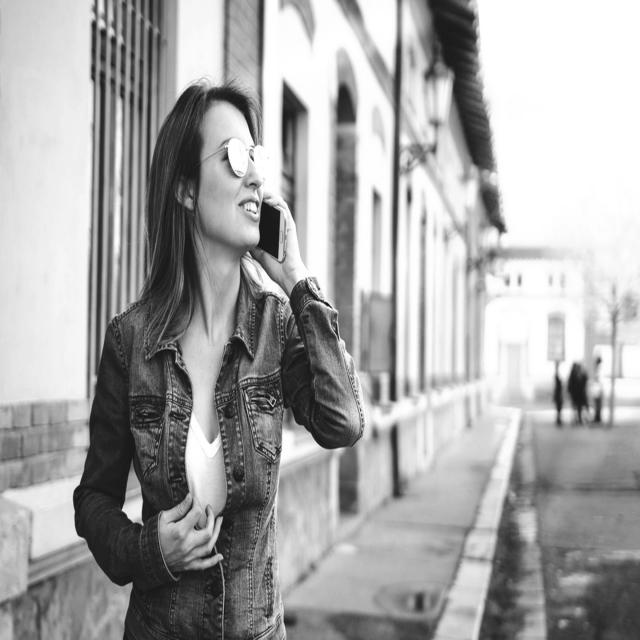phone: (233, 142, 316, 301)
